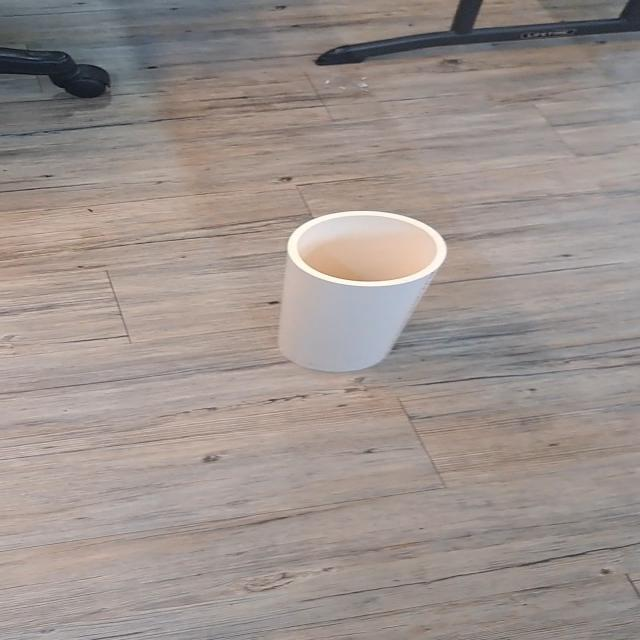CORAL: (244, 189, 462, 394)
